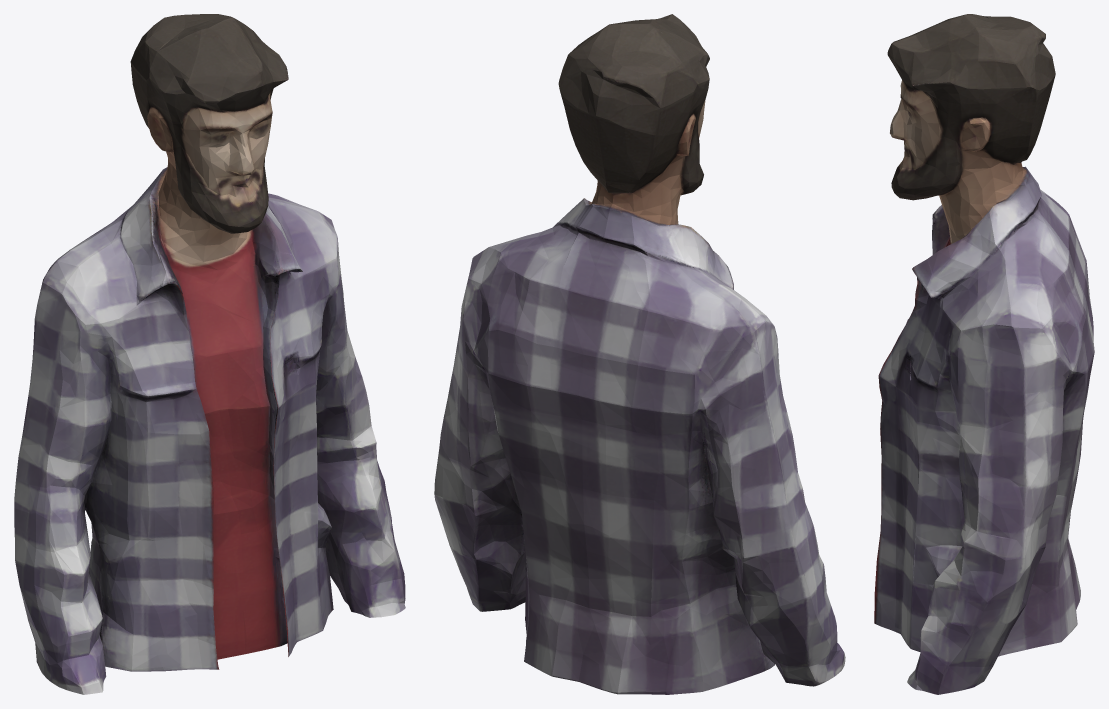
The model's file is _render.glb.
3 views of the same model, side by side, from view 1: azimuth 30°, elevation 25°; view 2: azimuth 150°, elevation 25°; view 3: azimuth 270°, elevation 25° (orthographic). The views are drawn at different scales.
Visible parts, largest first — view 1: geometry_0; view 2: geometry_0; view 3: geometry_0.
Boxes of the visible parts, bbox=[...] form: geometry_0: bbox=[14, 14, 405, 694]; geometry_0: bbox=[434, 14, 845, 694]; geometry_0: bbox=[874, 14, 1094, 694].
Size of the model in its own units: 0.5218 by 0.8284 by 0.2796.
Materials: 1 (1 with a texture image).
